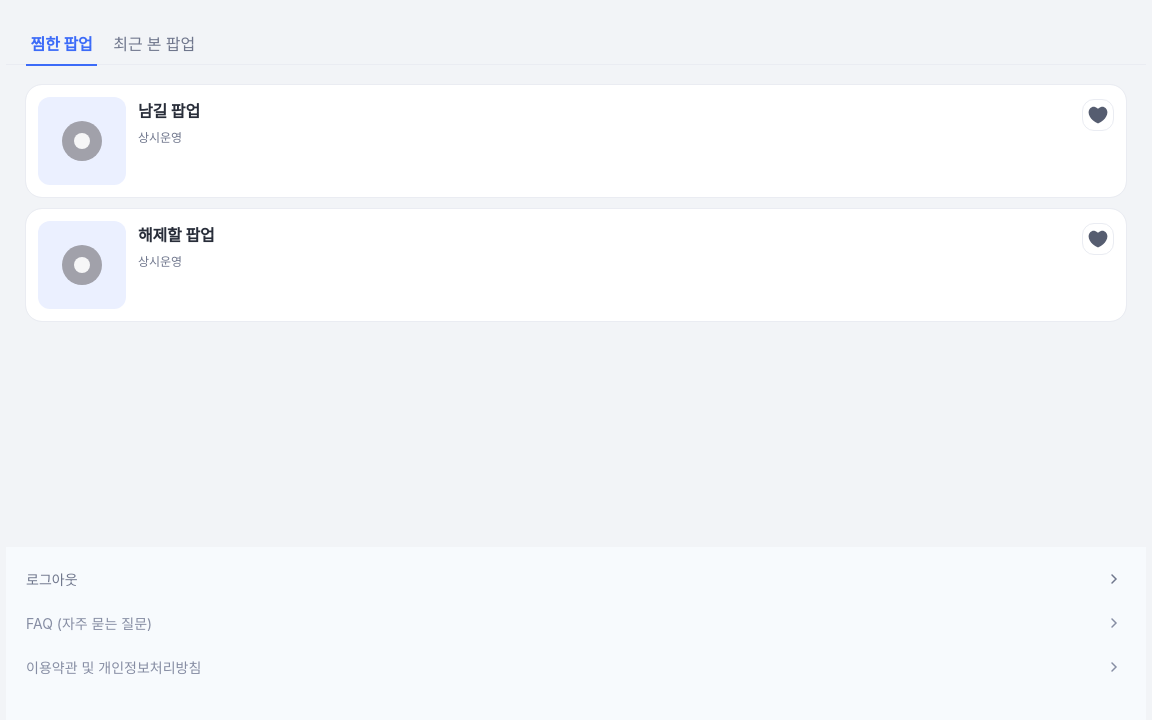
Scenario: 찜 목록에서 하트로 해제하면 그 팝업이 목록에서 빠진다
Click the button named "해제할 팝업 찜" at {"x": 1098, "y": 239}, box [1082,223,1114,255]
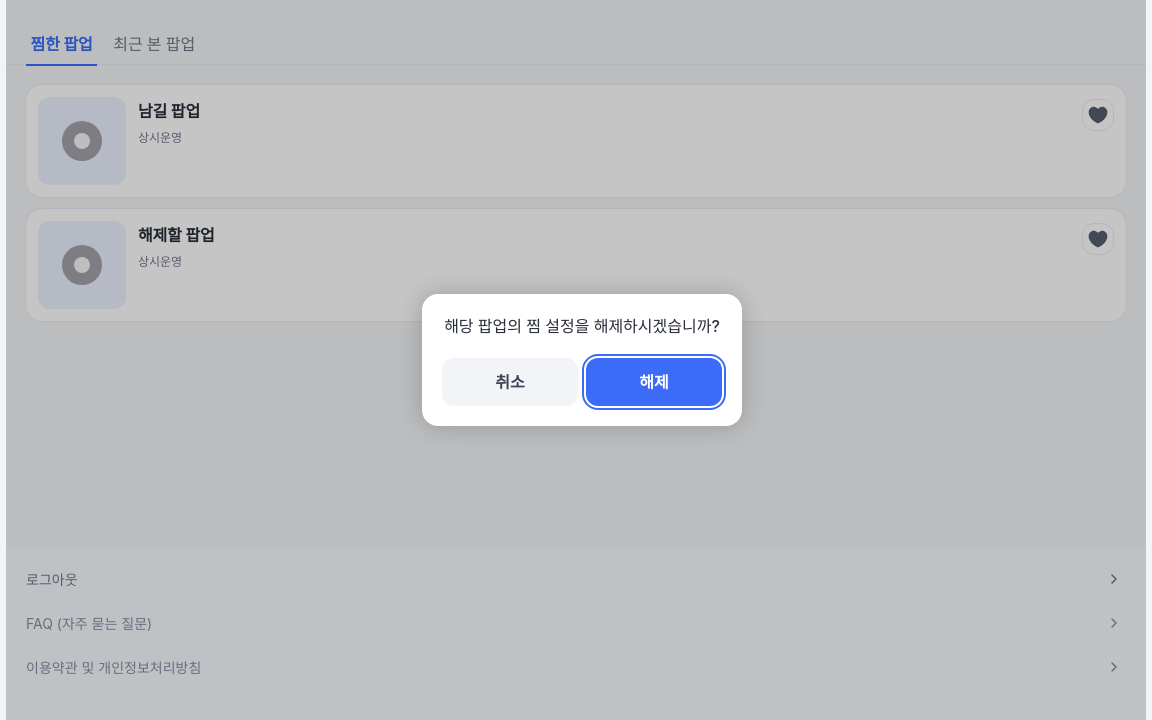
Click the button "해제" at {"x": 654, "y": 382}, box [586,358,722,406]
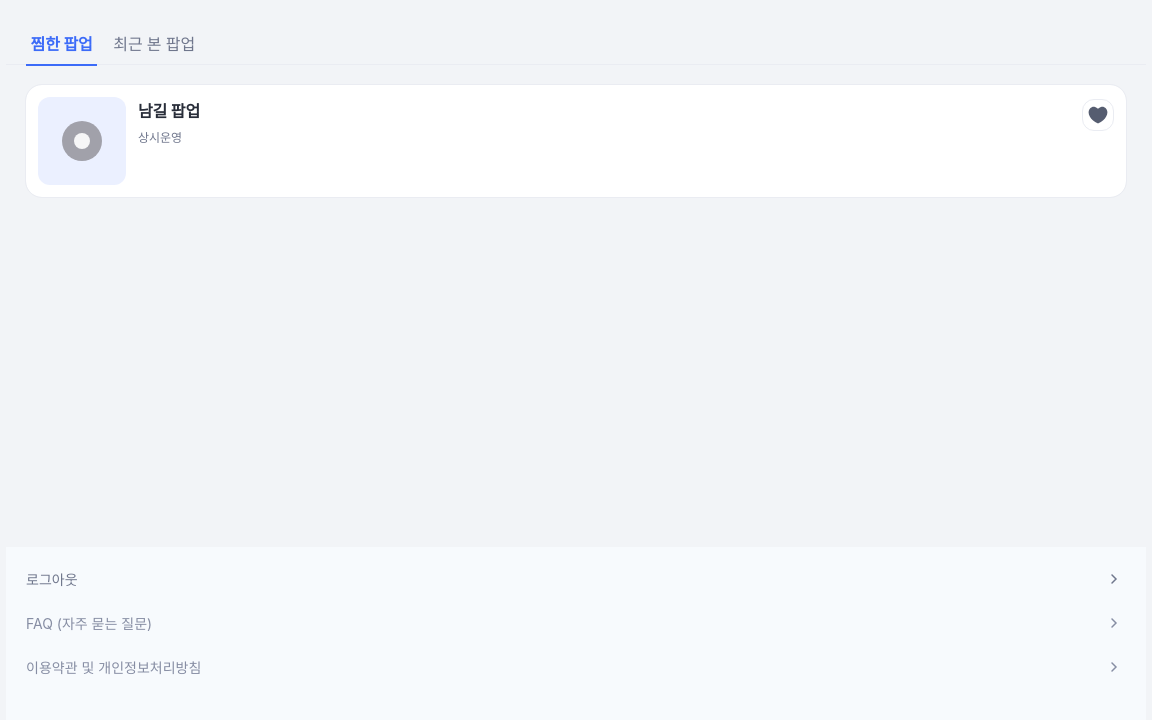
Expected: the element "남길 팝업" is shown, [26,85,1126,197]
Expected: the link "해제할 팝업" is gone
